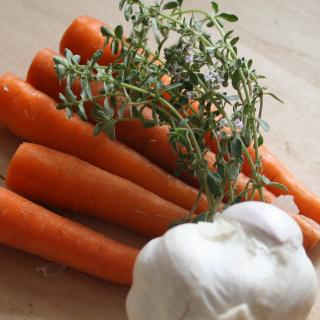Carrot: (27, 47, 320, 256), (56, 16, 320, 228), (0, 72, 231, 219), (4, 139, 200, 237), (0, 187, 140, 287)
